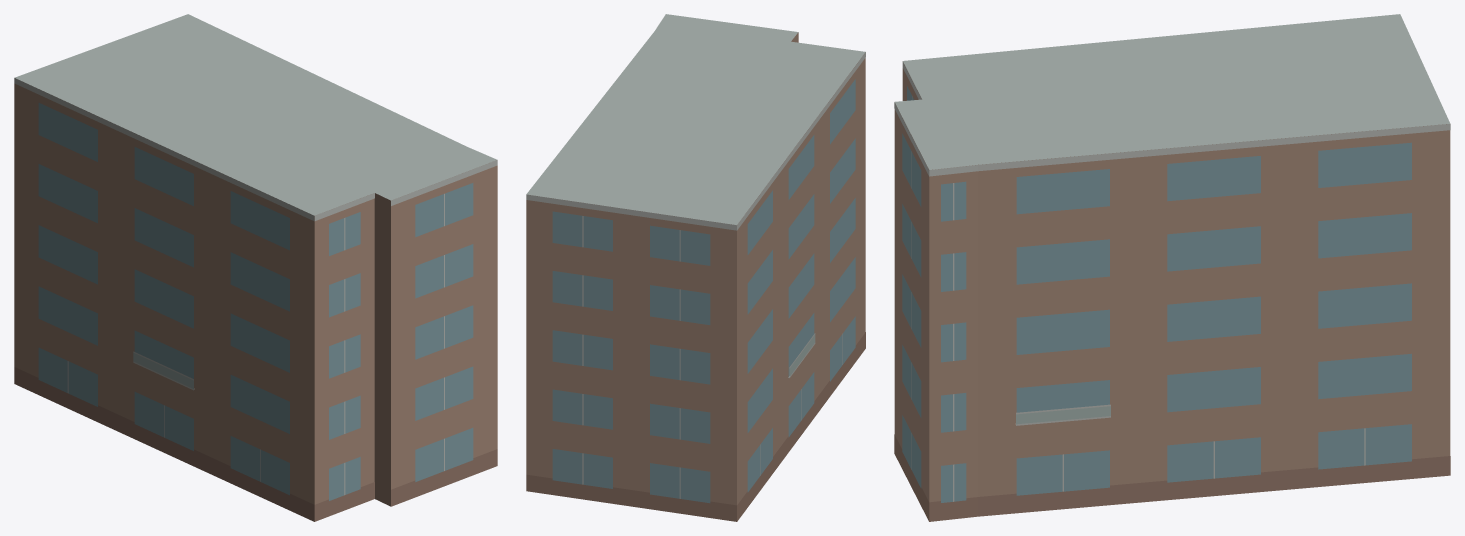
File: survey-upis-32768096.glb
3 views of the same model, side by side, from view 1: azimuth 30°, elevation 25°; view 2: azimuth 150°, elevation 25°; view 3: azimuth 270°, elevation 25° (orthographic). The views are drawn at different scales.
Visible parts, largest first — view 1: survey-upis-32768096.tmp; view 2: survey-upis-32768096.tmp; view 3: survey-upis-32768096.tmp.
Part boxes in pixels (left/top/right/bottom): survey-upis-32768096.tmp: left=14, top=14, right=497, bottom=521; survey-upis-32768096.tmp: left=526, top=14, right=865, bottom=521; survey-upis-32768096.tmp: left=894, top=14, right=1450, bottom=521.
Bounding box in the file's own units: 12.66 × 13.3 × 19.06.
